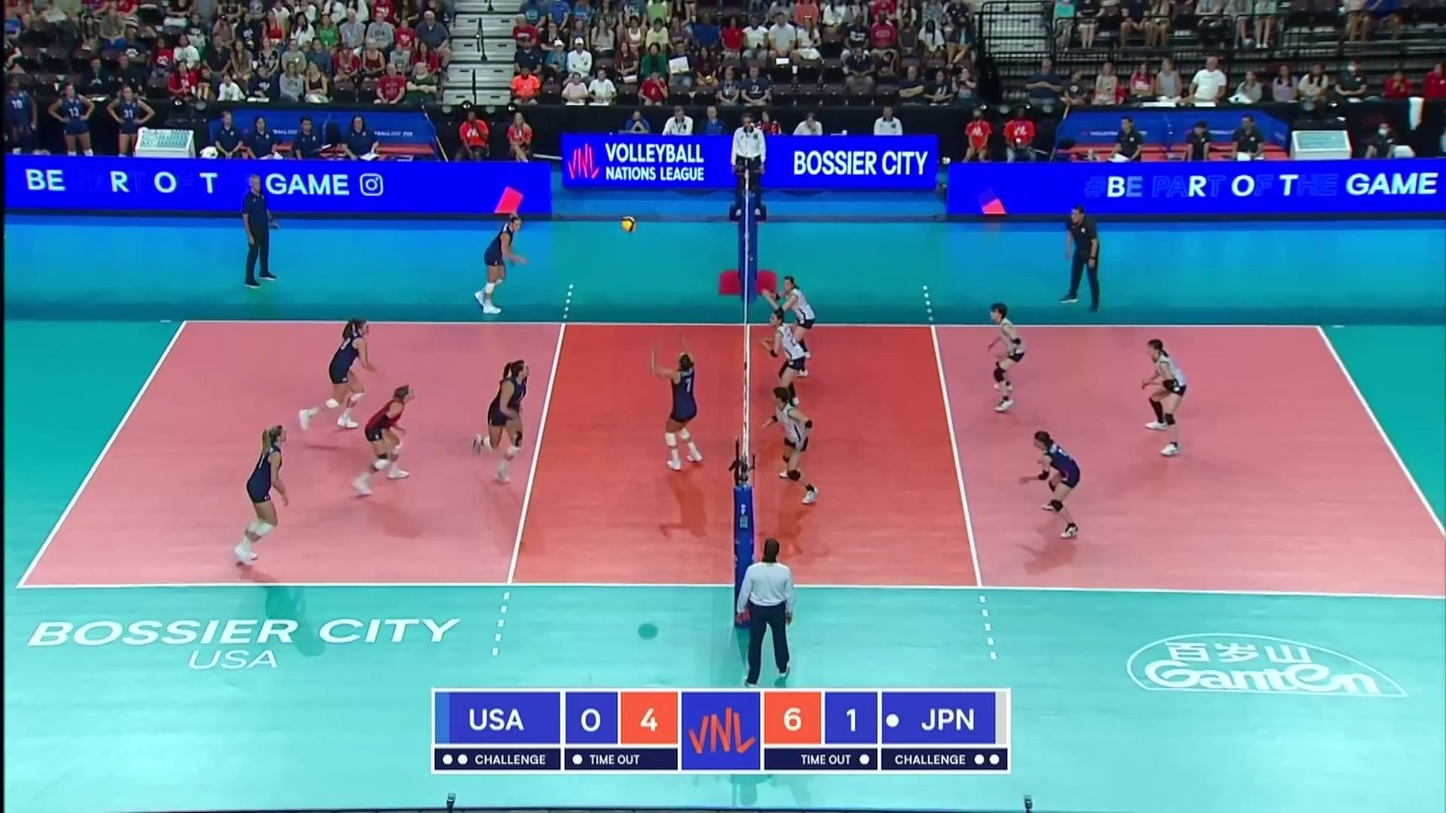player: (231, 424, 299, 569), (300, 316, 378, 428), (470, 359, 533, 488), (1022, 430, 1084, 537), (355, 387, 418, 492), (469, 205, 527, 316), (654, 352, 707, 470), (767, 386, 818, 503), (1140, 338, 1189, 454), (764, 275, 816, 378), (984, 304, 1026, 413), (765, 309, 806, 413)
refree: (736, 543, 803, 685), (729, 110, 766, 218)
